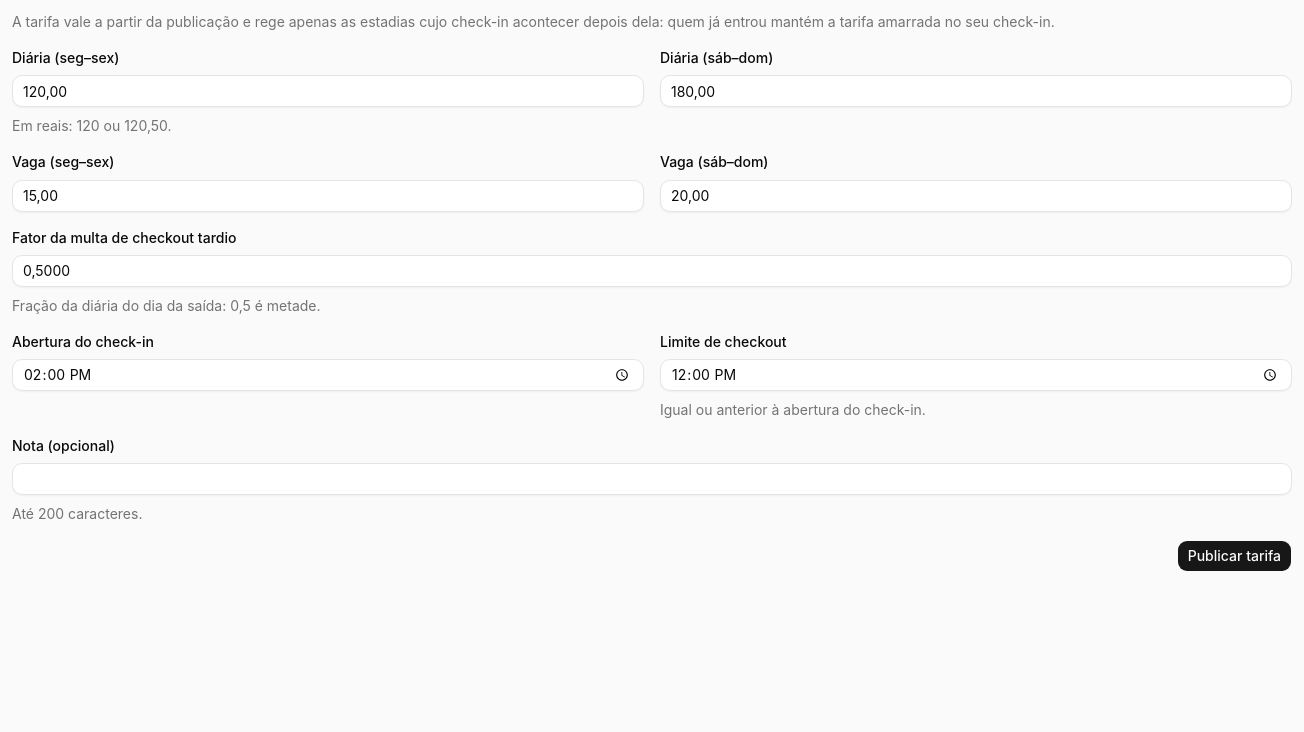
Scenario: PolicyForm › barra o limite de checkout depois da abertura com a frase do servidor
Replace the text in the time field labelled "Limite de checkout" with "15:00" at (976, 375), box [660,359,1292,391]
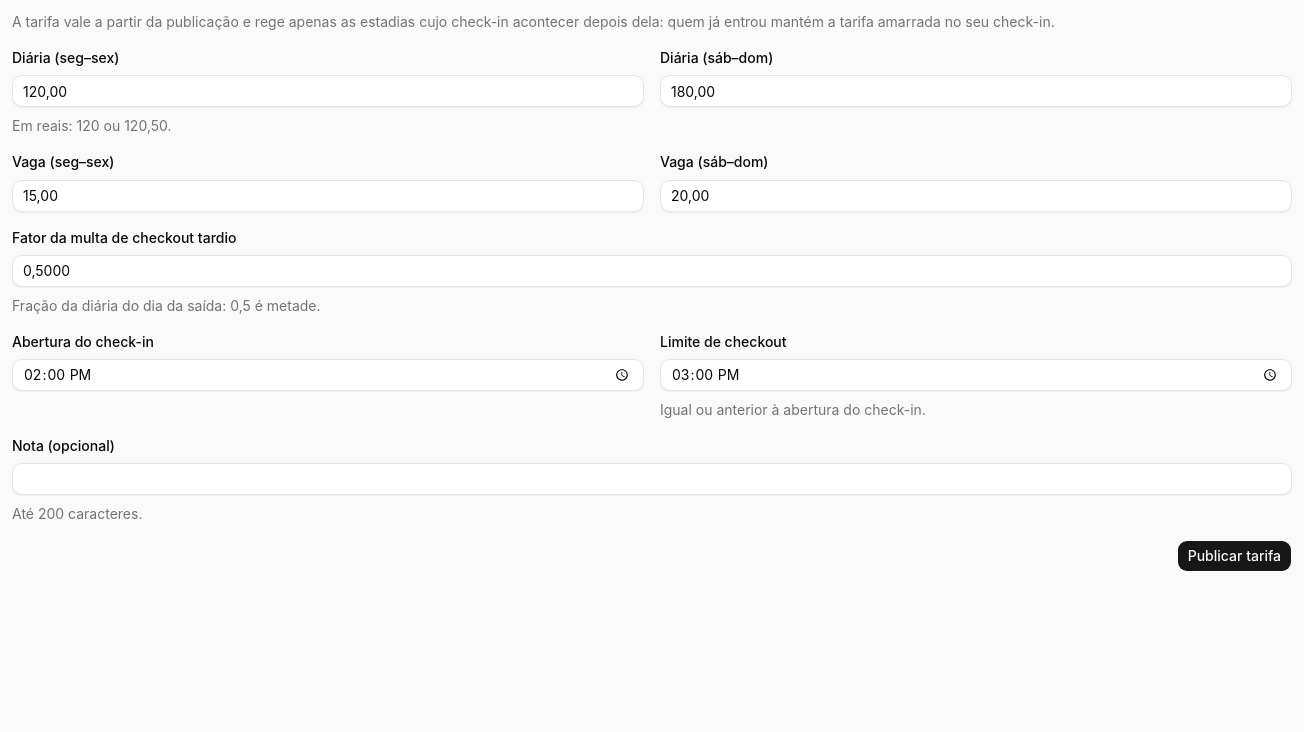
Click the button "Publicar tarifa" at (1234, 556), box [1177,540,1292,572]
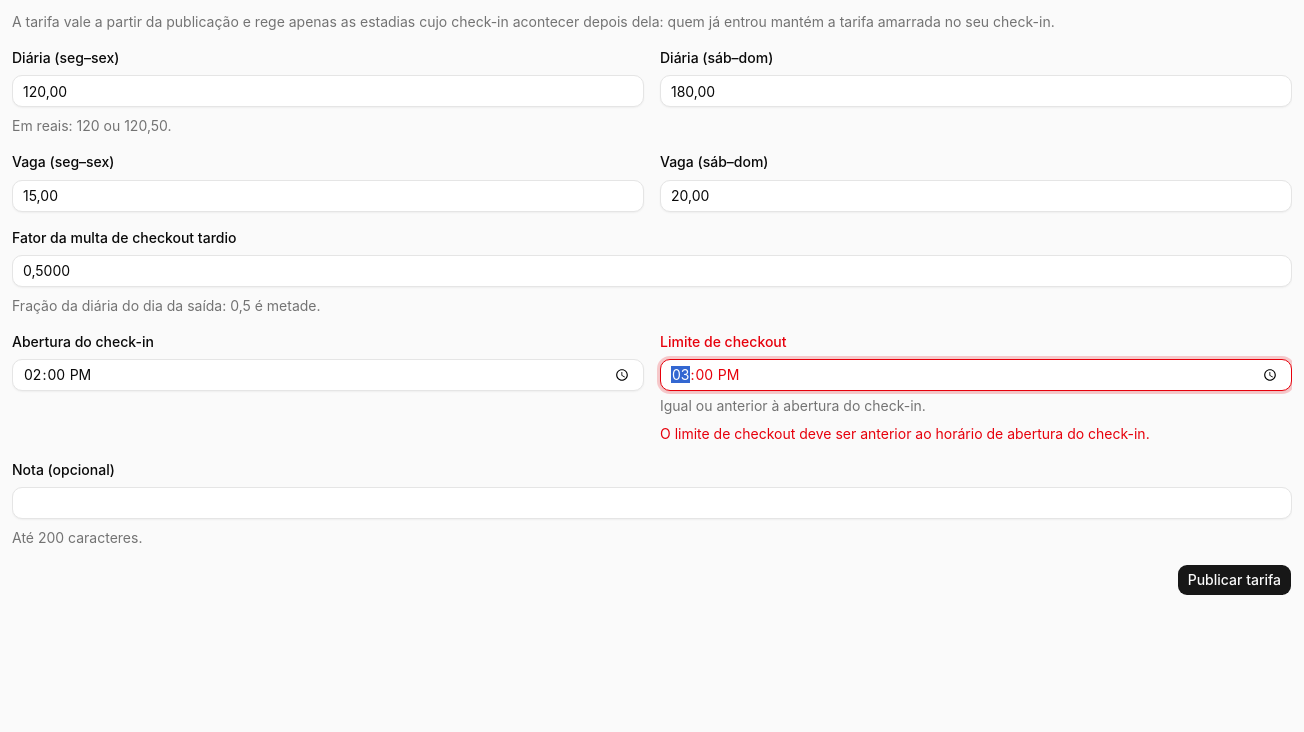
Result: the text "O limite de checkout deve ser anterior ao horário de abertura do check-in." is shown at [660,425,1150,442]
